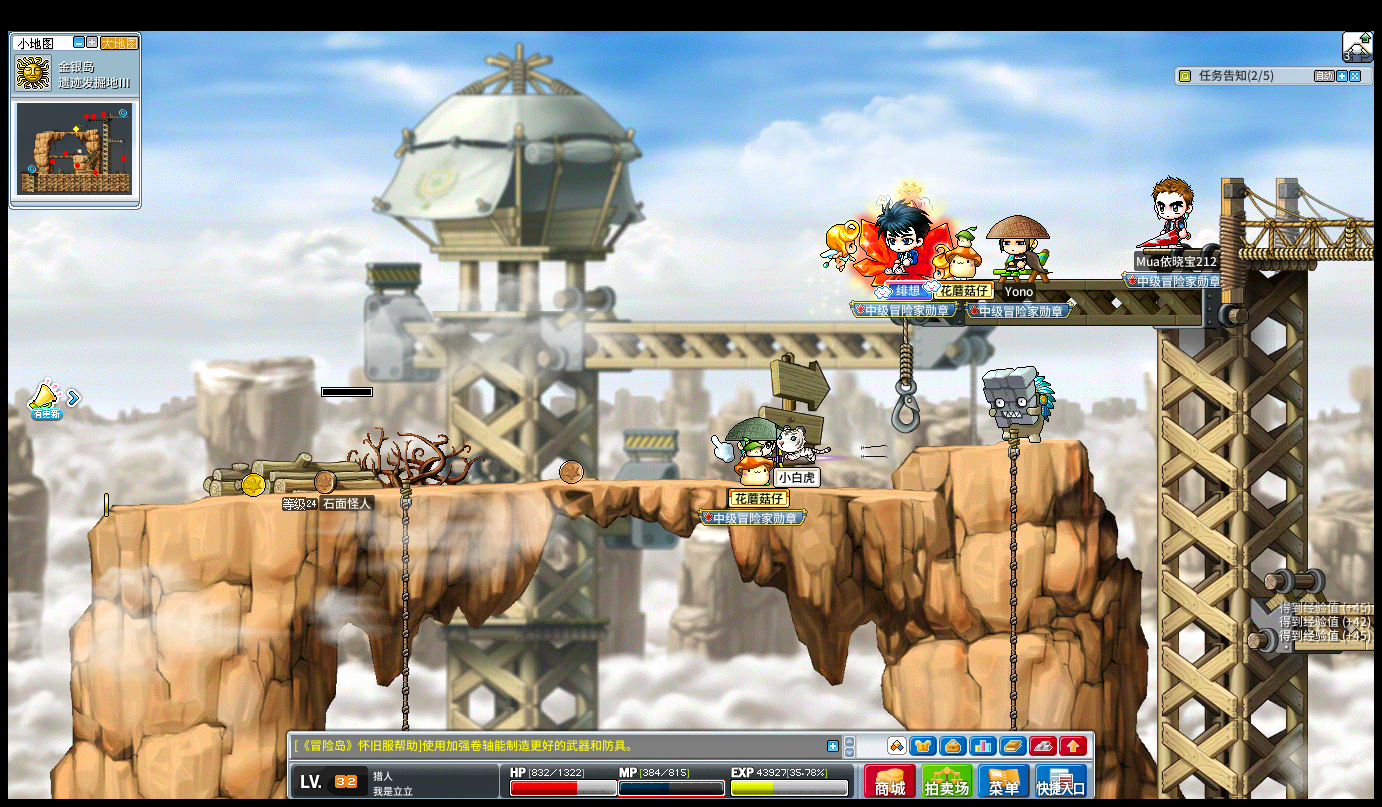floor: (90, 474, 952, 505), (109, 476, 975, 497), (923, 435, 1085, 451), (917, 439, 1090, 453)
monster: (981, 364, 1057, 443)
rope: (1005, 428, 1020, 720), (398, 471, 411, 807), (398, 473, 410, 715)
